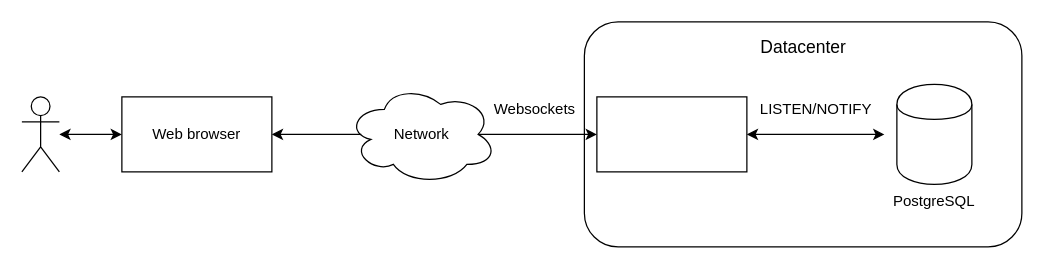
Some shapes in this 1044 by 269 pixel diagram are drawn without their labels. The shapes that lost their labels are listed below. From the top down, each one's centre as x and y in pixels, then its label:
At pixel 40 134: "User".
At pixel 671 134: "Spring application".
